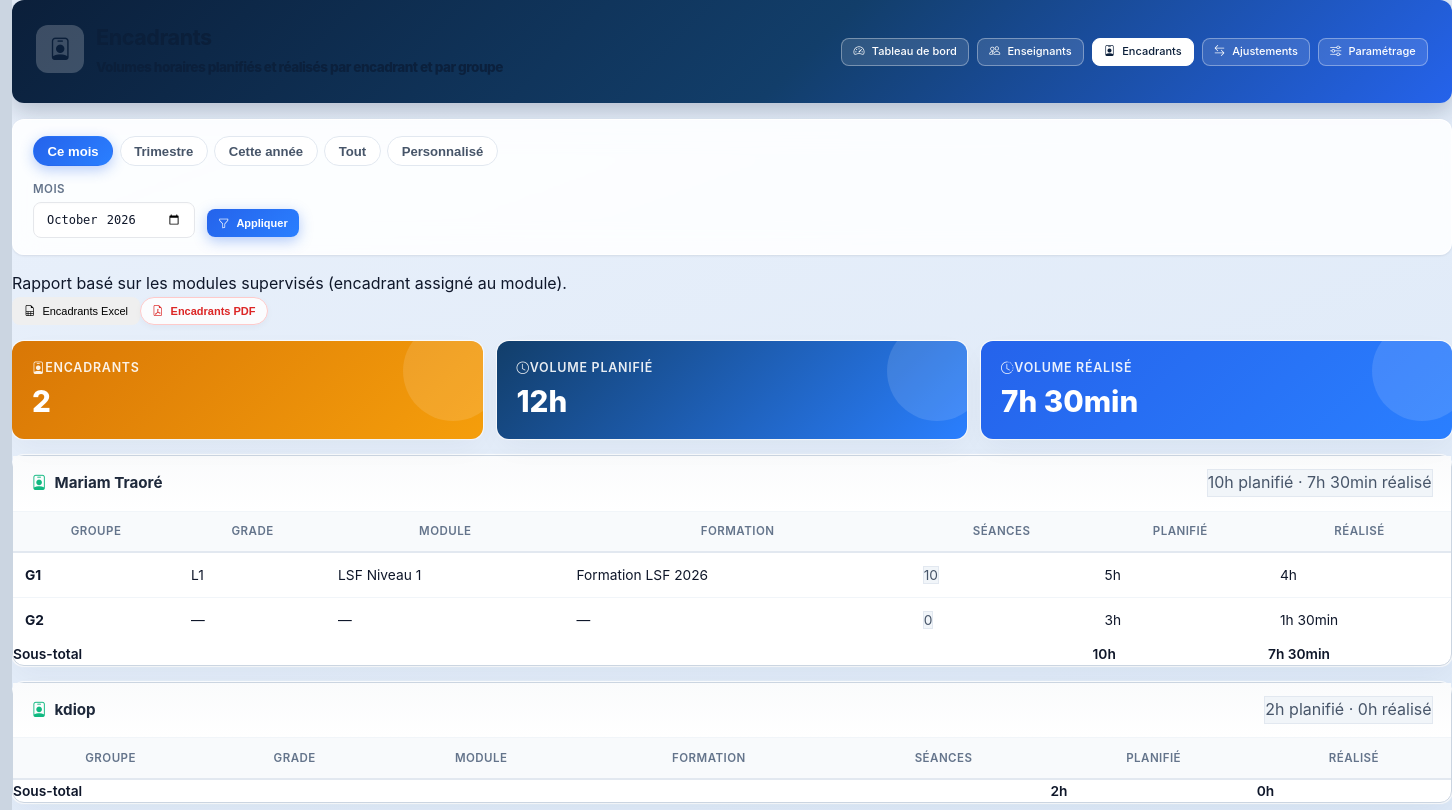
Scenario: pages/FinanceEncadrants.jsx — exports (LOT 27) › exporte la liste en Excel sur la période courante et notifie
Click the button "Encadrants Excel".
click(76, 311)  # box [12,297,140,325]
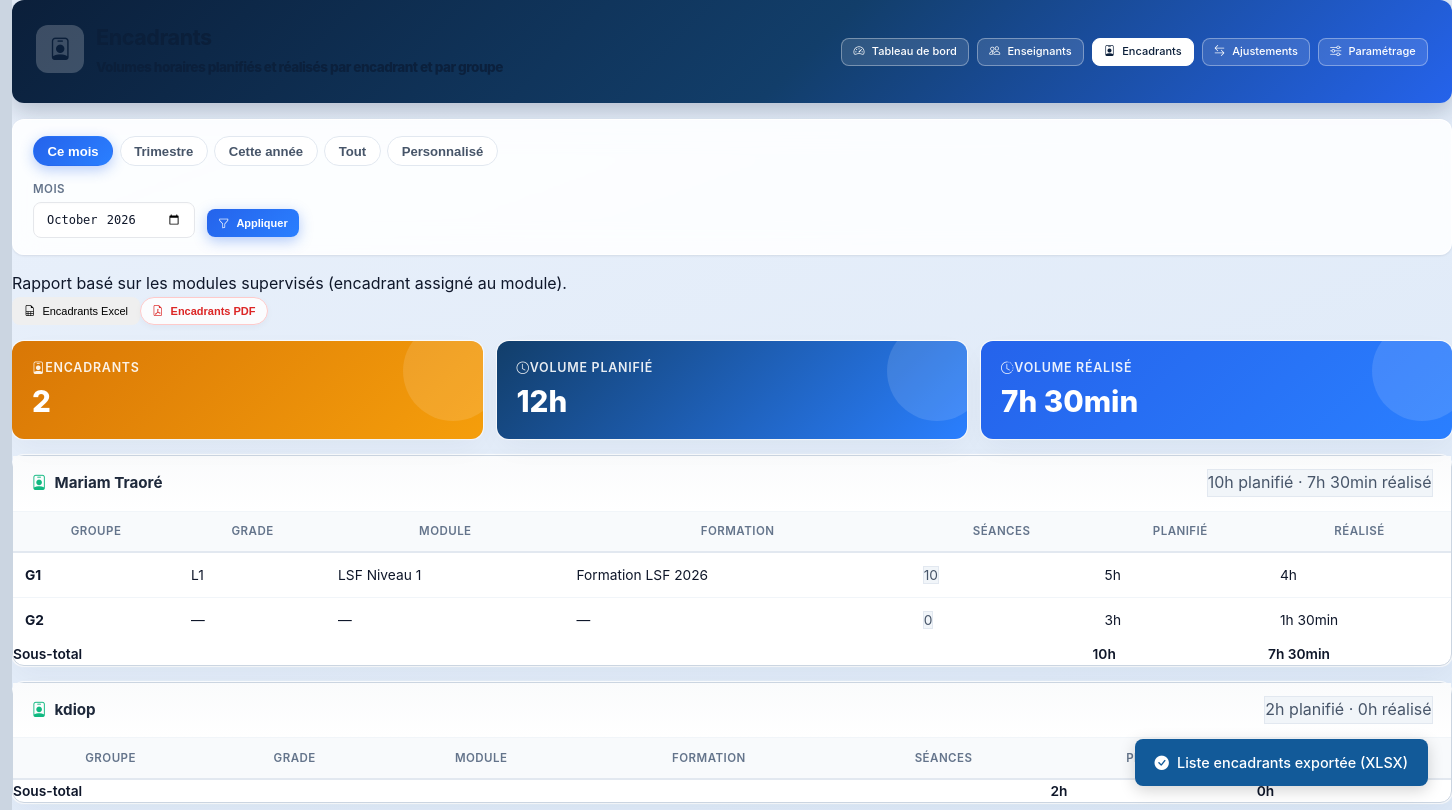
Now the text "Liste encadrants exportée (XLSX)" is shown, box [1135,739,1428,786]
